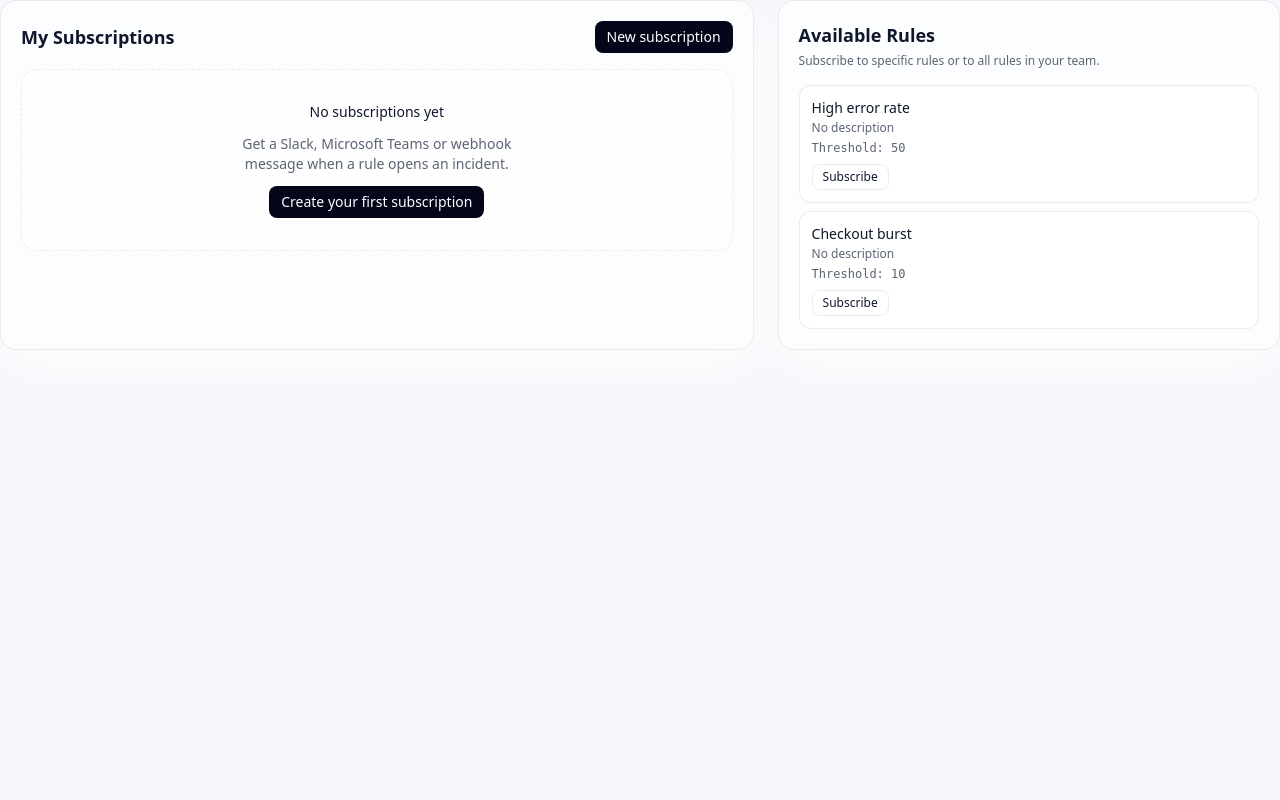
it: create form › opens with the rule preselected from the Subscribe button on a rule card
The image size is (1280, 800).
Click the button with aria-label "Subscribe to Checkout burst": [850, 303] box 812,290 -> 889,316
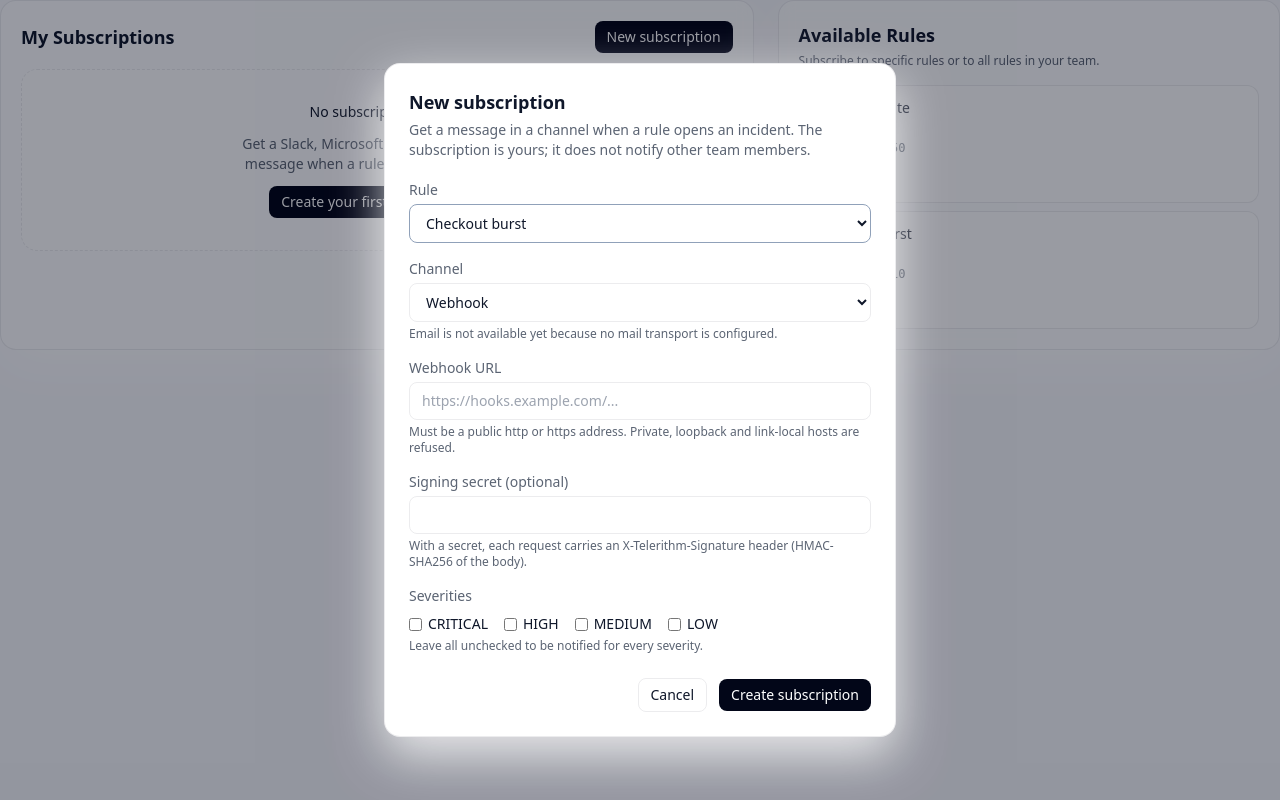
Check: the dropdown labelled "Rule" shows "Checkout burst", box 409,204 -> 871,243
